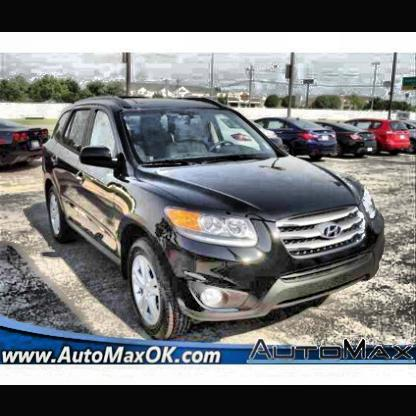Hyundai Santa Fe SUV 2012: (36, 74, 400, 344)
